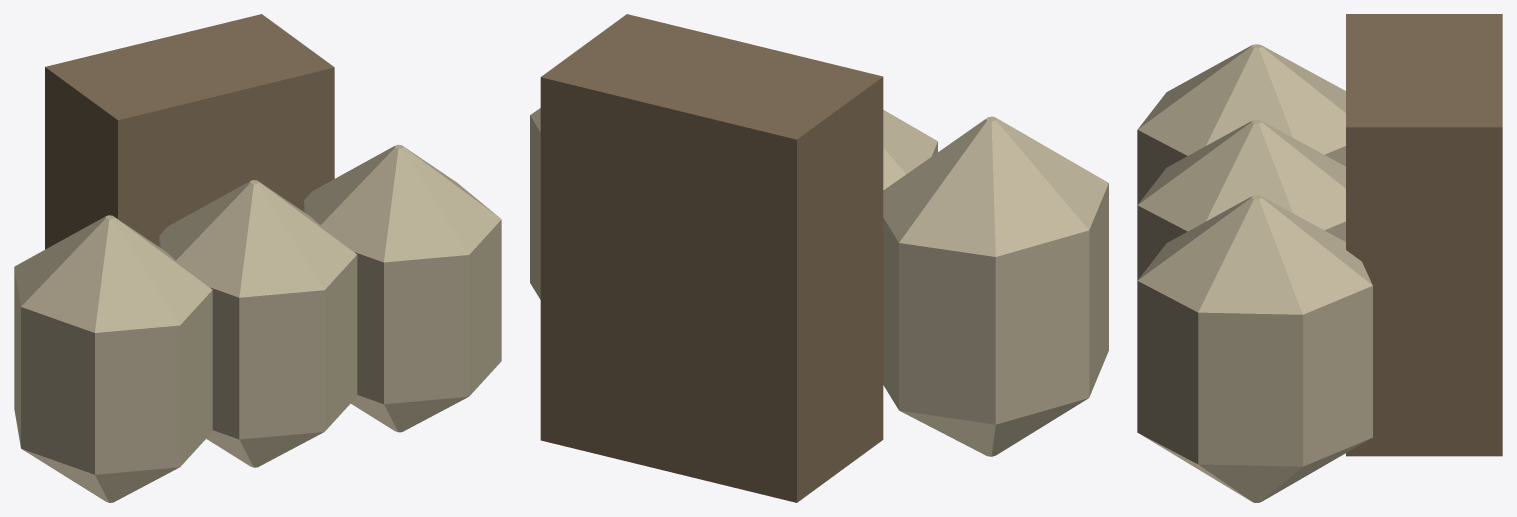
The model's file is PRP_10_Supply.glb.
3 views of the same model, side by side, from view 1: azimuth 30°, elevation 25°; view 2: azimuth 150°, elevation 25°; view 3: azimuth 270°, elevation 25° (orthographic). The views are drawn at different scales.
Parts seen in each view (by area): view 1: PRP_10_Supply; view 2: PRP_10_Supply; view 3: PRP_10_Supply.
Part boxes in pixels (x1,y1,x2,y2): PRP_10_Supply: (14, 14, 501, 502); PRP_10_Supply: (530, 14, 1108, 502); PRP_10_Supply: (1137, 14, 1502, 502).
Size of the model in its own units: 1.01 by 0.715 by 0.6534.
